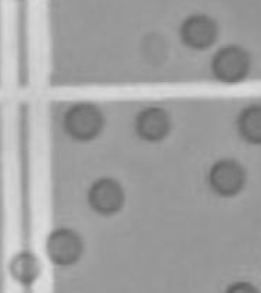cell: (41, 223, 88, 269), (61, 99, 106, 145), (204, 155, 249, 200), (210, 39, 252, 87), (85, 174, 128, 218), (177, 9, 221, 52), (133, 105, 171, 145), (6, 249, 44, 287)
